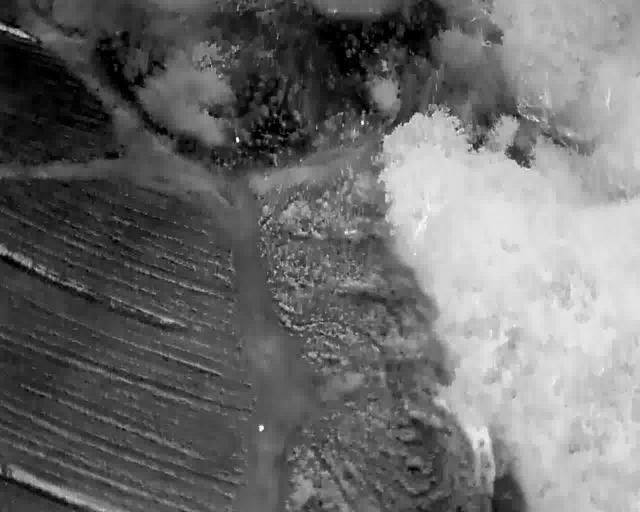person: (257, 422, 264, 434)
